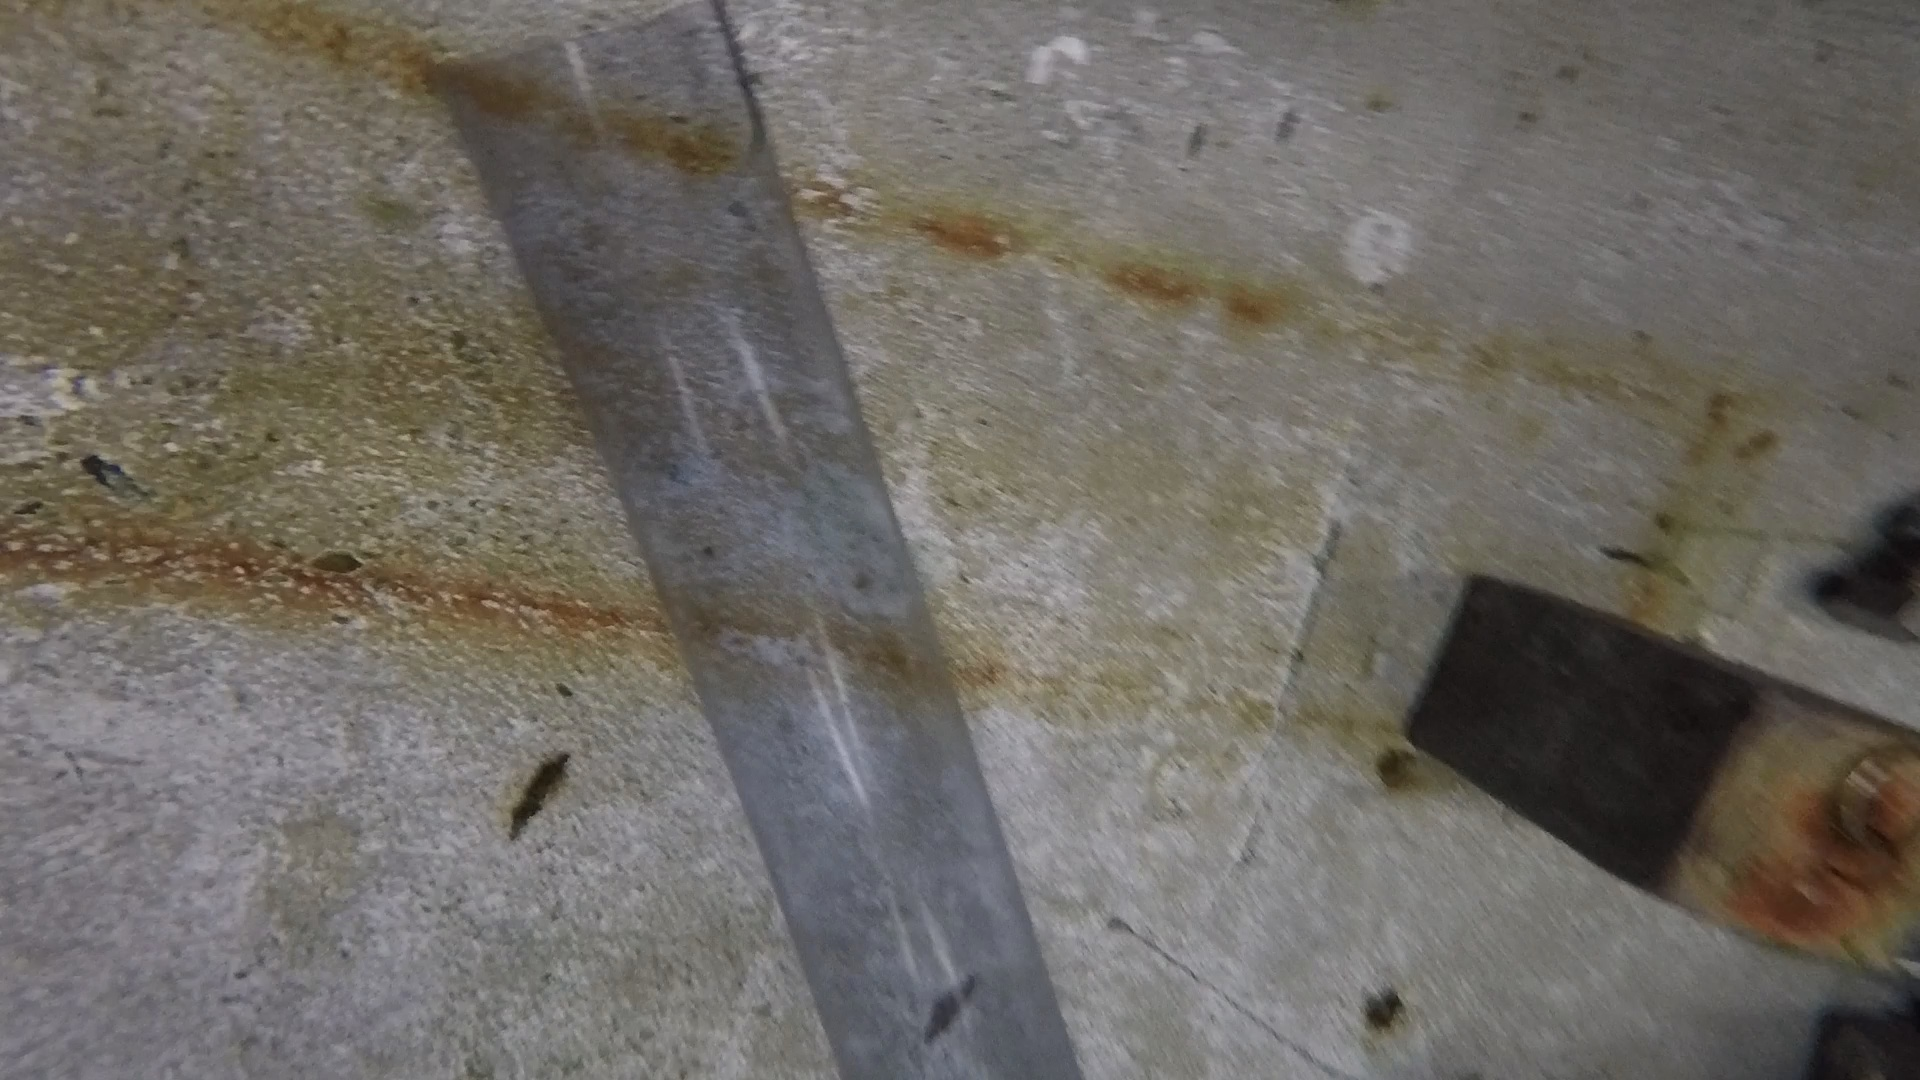led_block: (1400, 575, 1920, 978)
pipe: (439, 4, 1084, 1080)
